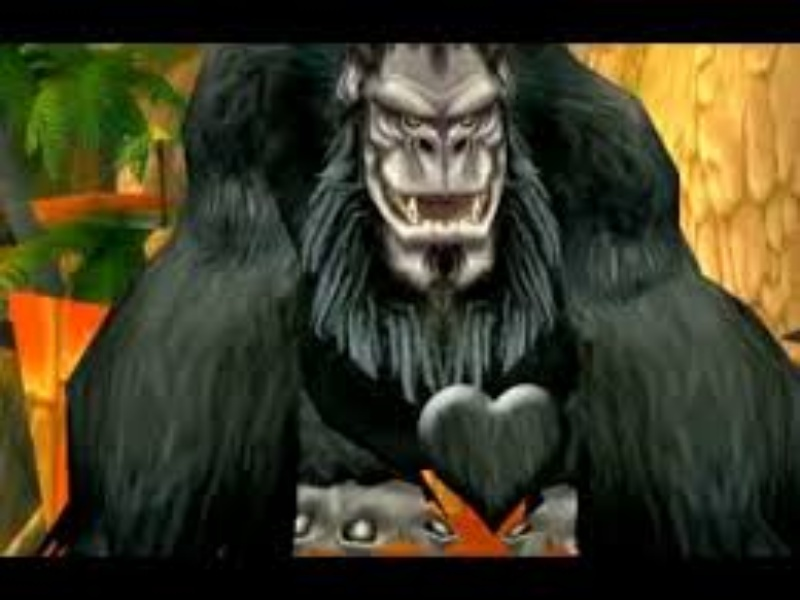monkey: (197, 55, 669, 565)
